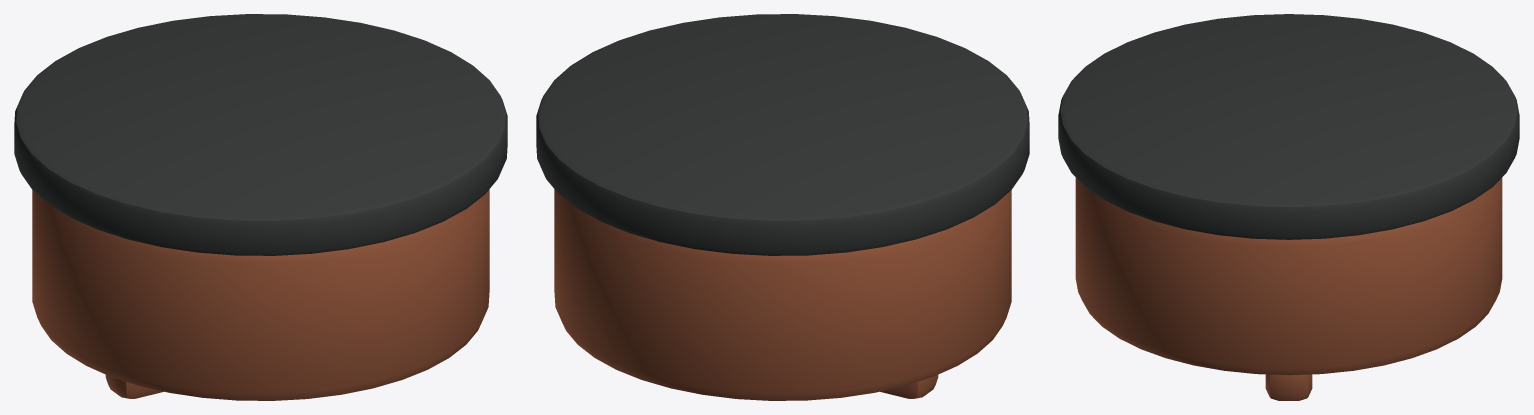
Rendered from tumble_dryer_program_dial.glb.
3 views of the same model, side by side, from view 1: azimuth 30°, elevation 25°; view 2: azimuth 150°, elevation 25°; view 3: azimuth 270°, elevation 25° (orthographic). The views are drawn at different scales.
Visible parts, largest first — view 1: tumble_dryer_program_dial_x; view 2: tumble_dryer_program_dial_x; view 3: tumble_dryer_program_dial_x.
Boxes of the visible parts, x1,y1,x2,y2 form: tumble_dryer_program_dial_x: (14,14,507,400); tumble_dryer_program_dial_x: (536,14,1029,400); tumble_dryer_program_dial_x: (1058,14,1519,400).
Size of the model in its own units: 0.0691 by 0.038 by 0.0691.
